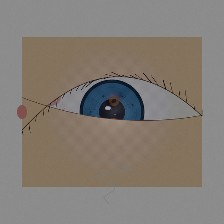foreign_body_visible: (101, 91, 127, 112)
